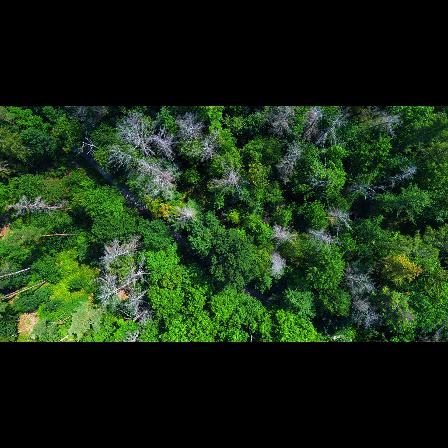Dead: (111, 150, 165, 177), (116, 115, 150, 154), (4, 196, 73, 214), (346, 292, 381, 327), (341, 264, 380, 295), (372, 162, 418, 188), (213, 162, 249, 195), (319, 109, 350, 145), (100, 237, 139, 263), (274, 146, 301, 180), (346, 182, 396, 200), (323, 208, 357, 234), (308, 228, 342, 253), (266, 106, 296, 134), (173, 116, 204, 143), (170, 203, 205, 224), (270, 221, 297, 248), (301, 106, 325, 136), (99, 280, 136, 299), (75, 133, 99, 157), (268, 252, 287, 281), (150, 135, 174, 155), (132, 304, 154, 324), (154, 178, 177, 191)
